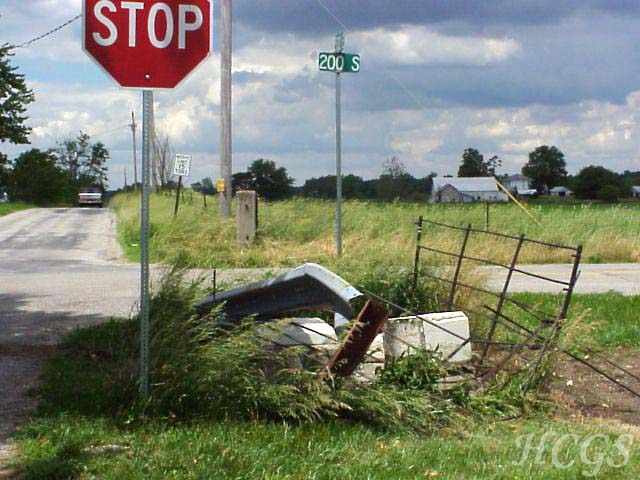stop: (80, 1, 212, 91), (87, 3, 211, 91), (80, 1, 174, 90)
